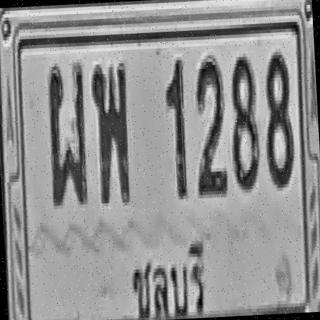A28: (39, 41, 92, 221)
A30: (85, 51, 135, 226)
N01: (162, 42, 199, 226)
N02: (190, 46, 230, 205)
N08: (258, 32, 298, 217), (223, 39, 262, 214)
P13: (119, 223, 222, 320)
